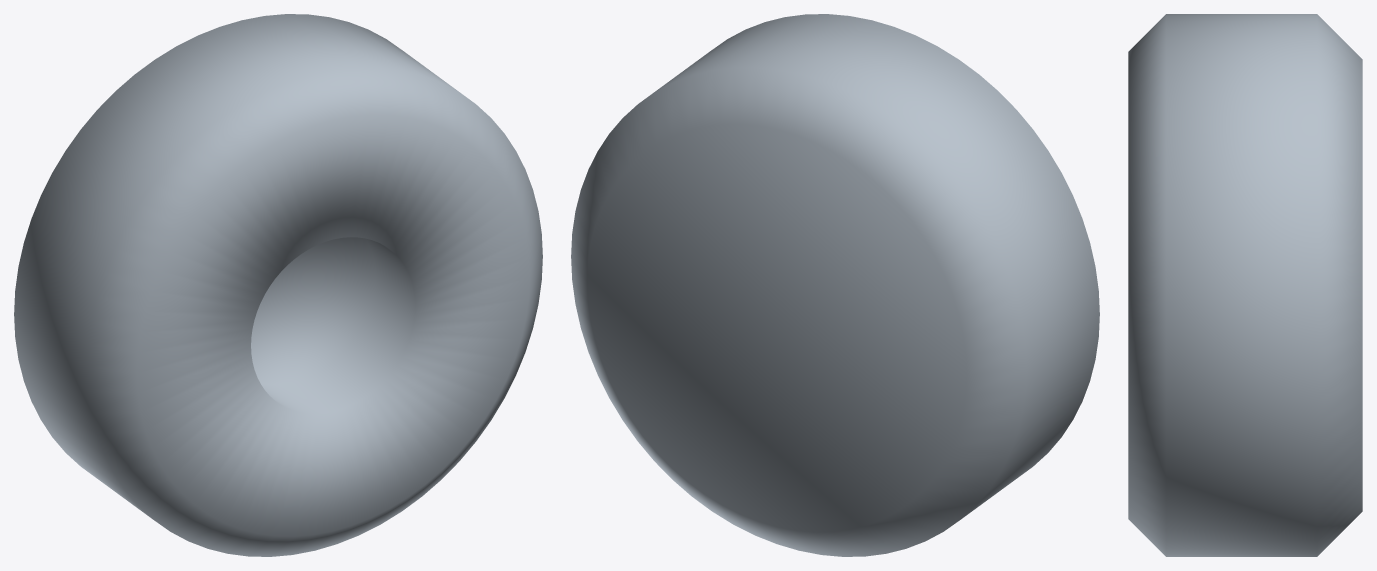
Rendered from screw.obj.
The picture shows the model from 3 angles, left to right: view 1: azimuth 30°, elevation 25°; view 2: azimuth 150°, elevation 25°; view 3: azimuth 270°, elevation 25°; orthographic projection. The views are drawn at different scales.
Bounding box in the file's own units: 0.0036 × 0.0036 × 0.00155.
